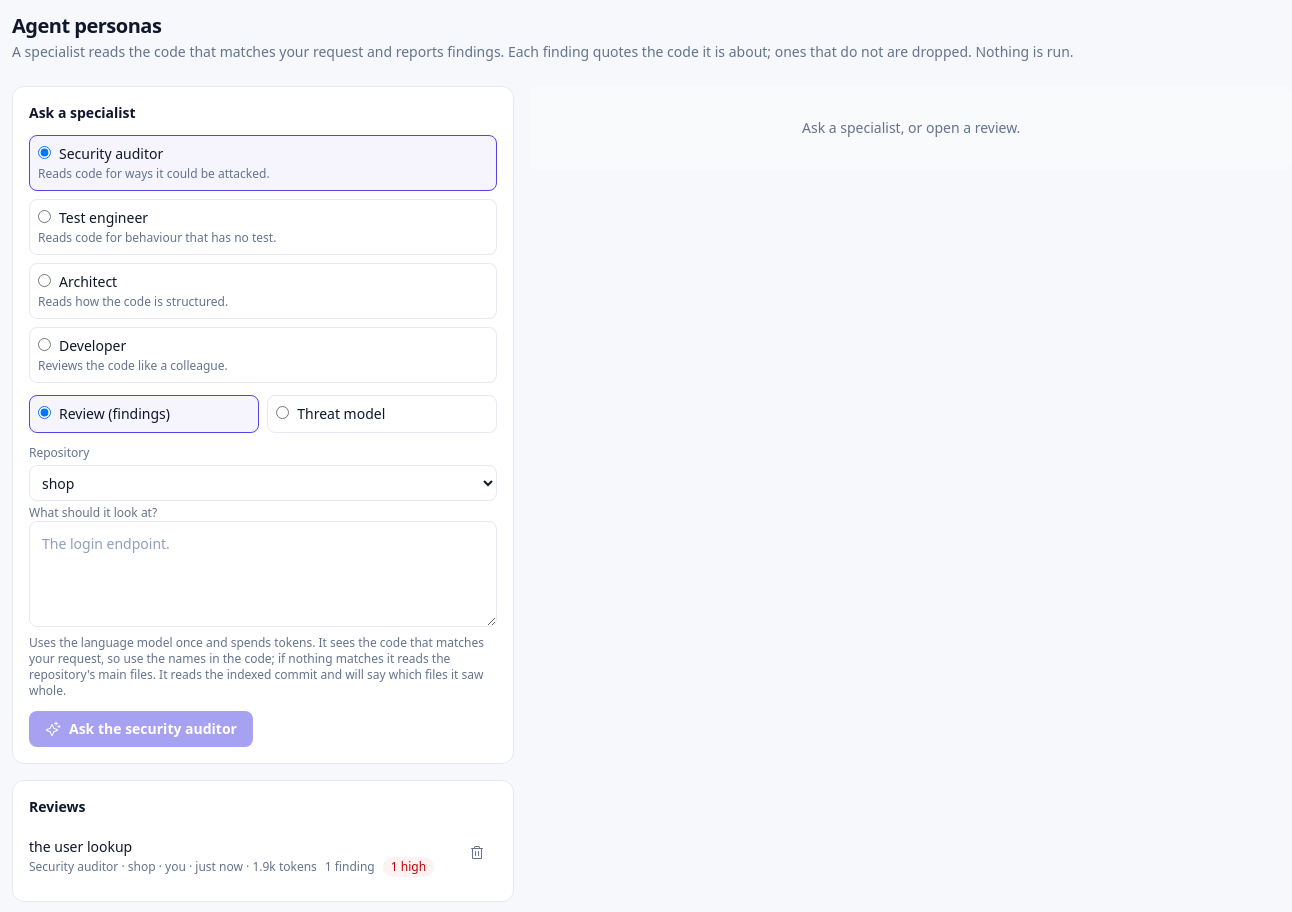
Scenario: Agent personas › shows each finding with the code it quotes, where it is, and what the review saw and dropped
Click the button "the user lookup" at (241, 857), box left=29, top=829, right=453, bottom=885
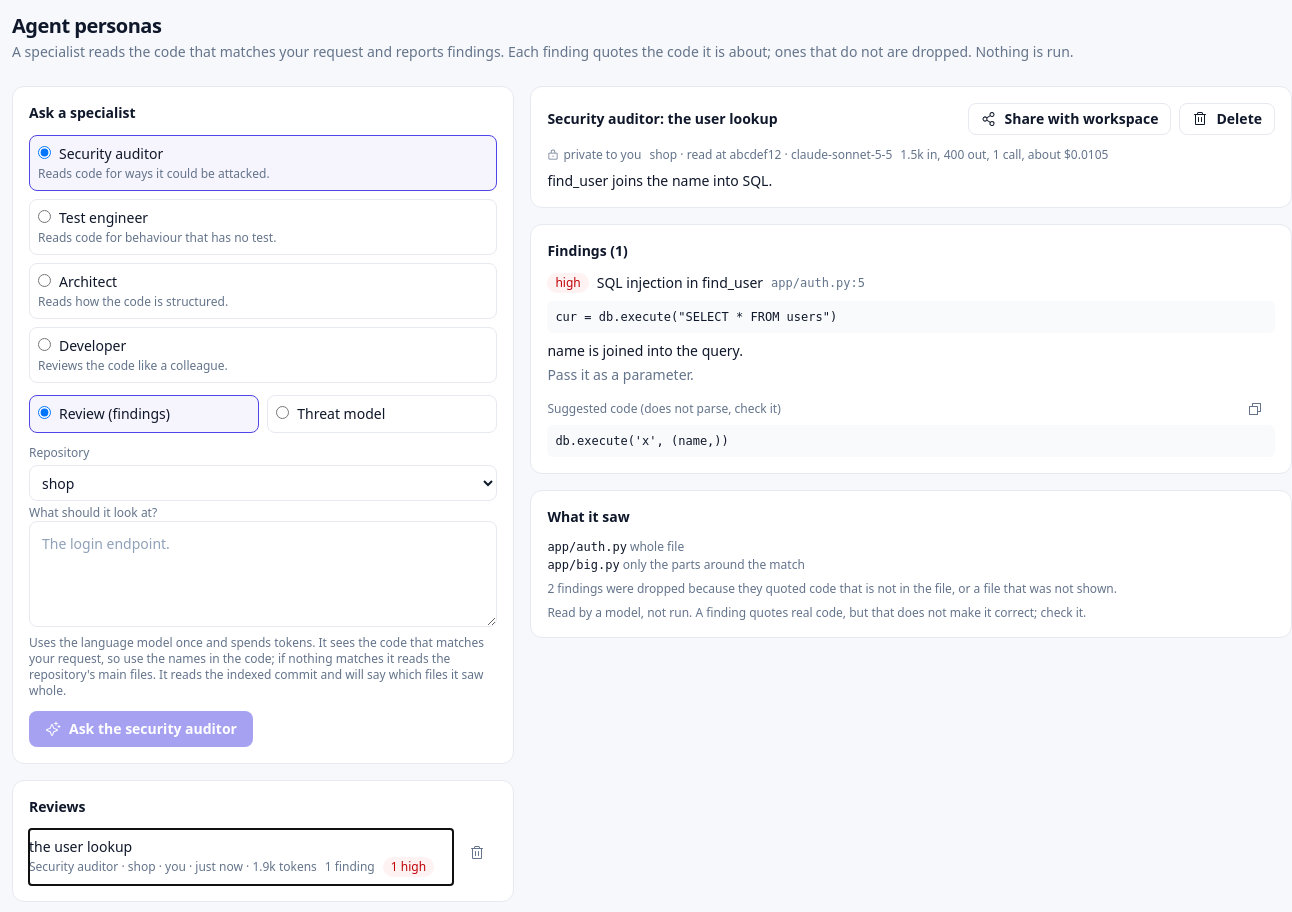
Expected: the element labelled "Findings" shows "SQL injection in find_user", left=597, top=273, right=763, bottom=292
Expected: the element labelled "Findings" shows "app/auth.py:5", left=530, top=224, right=1291, bottom=474
Expected: the element labelled "Findings" shows "SELECT * FROM users", left=555, top=310, right=837, bottom=324
